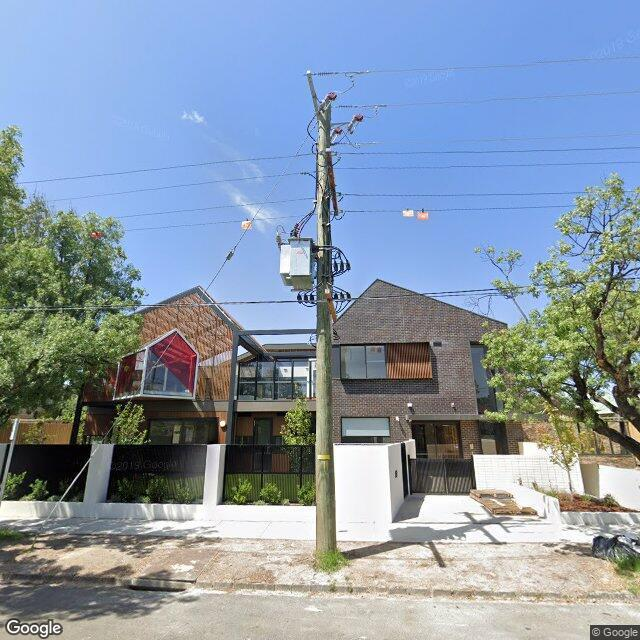HV-transmission: (307, 70, 388, 151)
crossarm: (326, 147, 347, 221), (308, 71, 319, 113), (326, 288, 338, 322)
timber-pole: (316, 100, 336, 563)
transformer: (276, 221, 353, 313)
